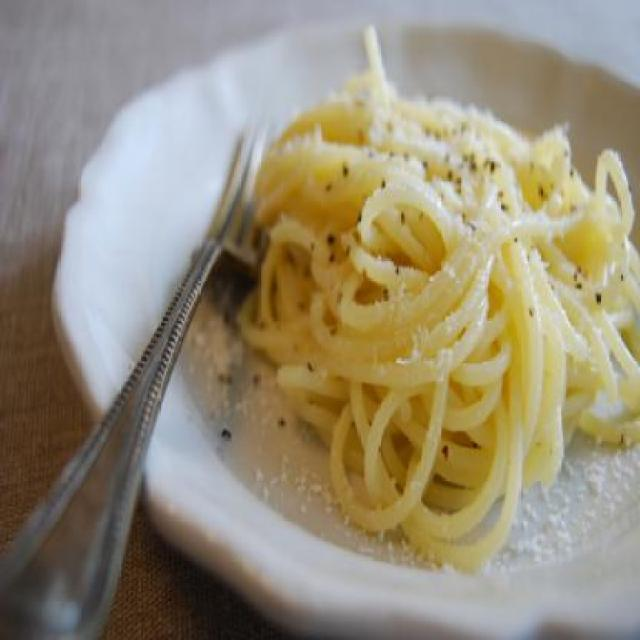Oil pasta: (218, 51, 630, 562)
